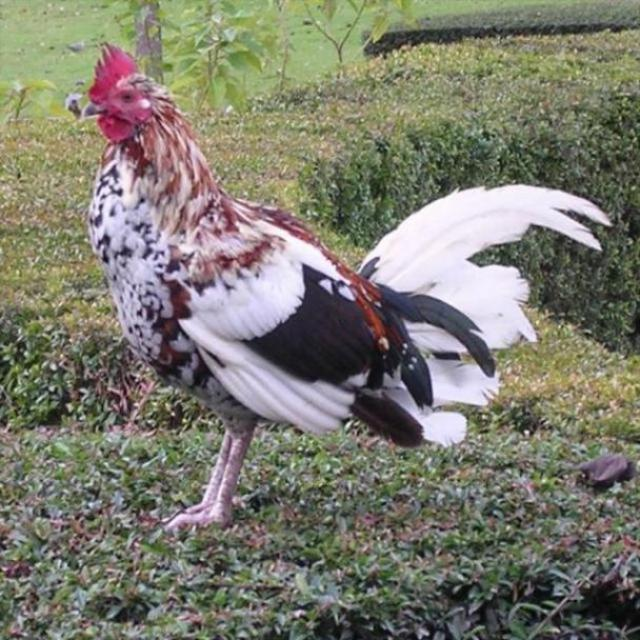Chicken: (76, 54, 552, 553)
